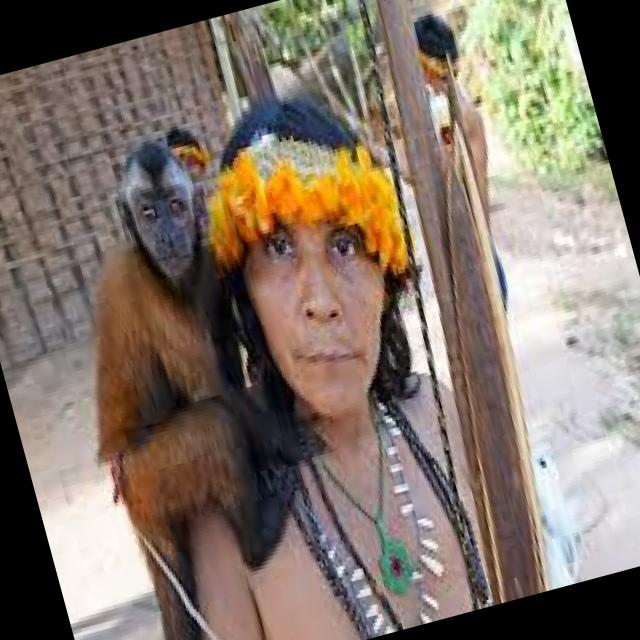monkey: (66, 136, 262, 389)
poacher: (168, 26, 480, 584), (378, 0, 489, 190)
weapon: (347, 0, 581, 601)
